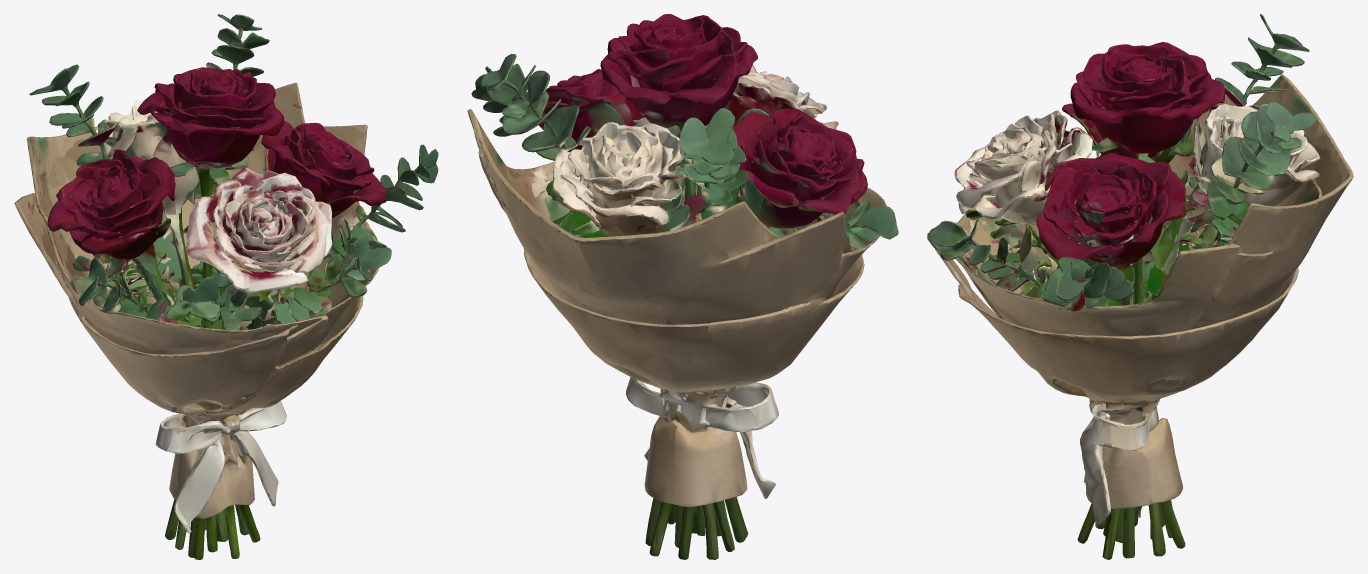
File: evening-letter.glb
3 renders of one model, left to right at view 1: azimuth 30°, elevation 25°; view 2: azimuth 150°, elevation 25°; view 3: azimuth 270°, elevation 25°, orthographic. The views are drawn at different scales.
Parts seen in each view (by area): view 1: evening-letter; view 2: evening-letter; view 3: evening-letter.
Boxes of the visible parts, <box> form: evening-letter: <box>14,14,438,559</box>; evening-letter: <box>467,14,898,559</box>; evening-letter: <box>927,14,1353,559</box>.
Bounding box in the file's own units: 0.4732 × 0.55 × 0.4338.
Materials: 1 (1 with a texture image).
